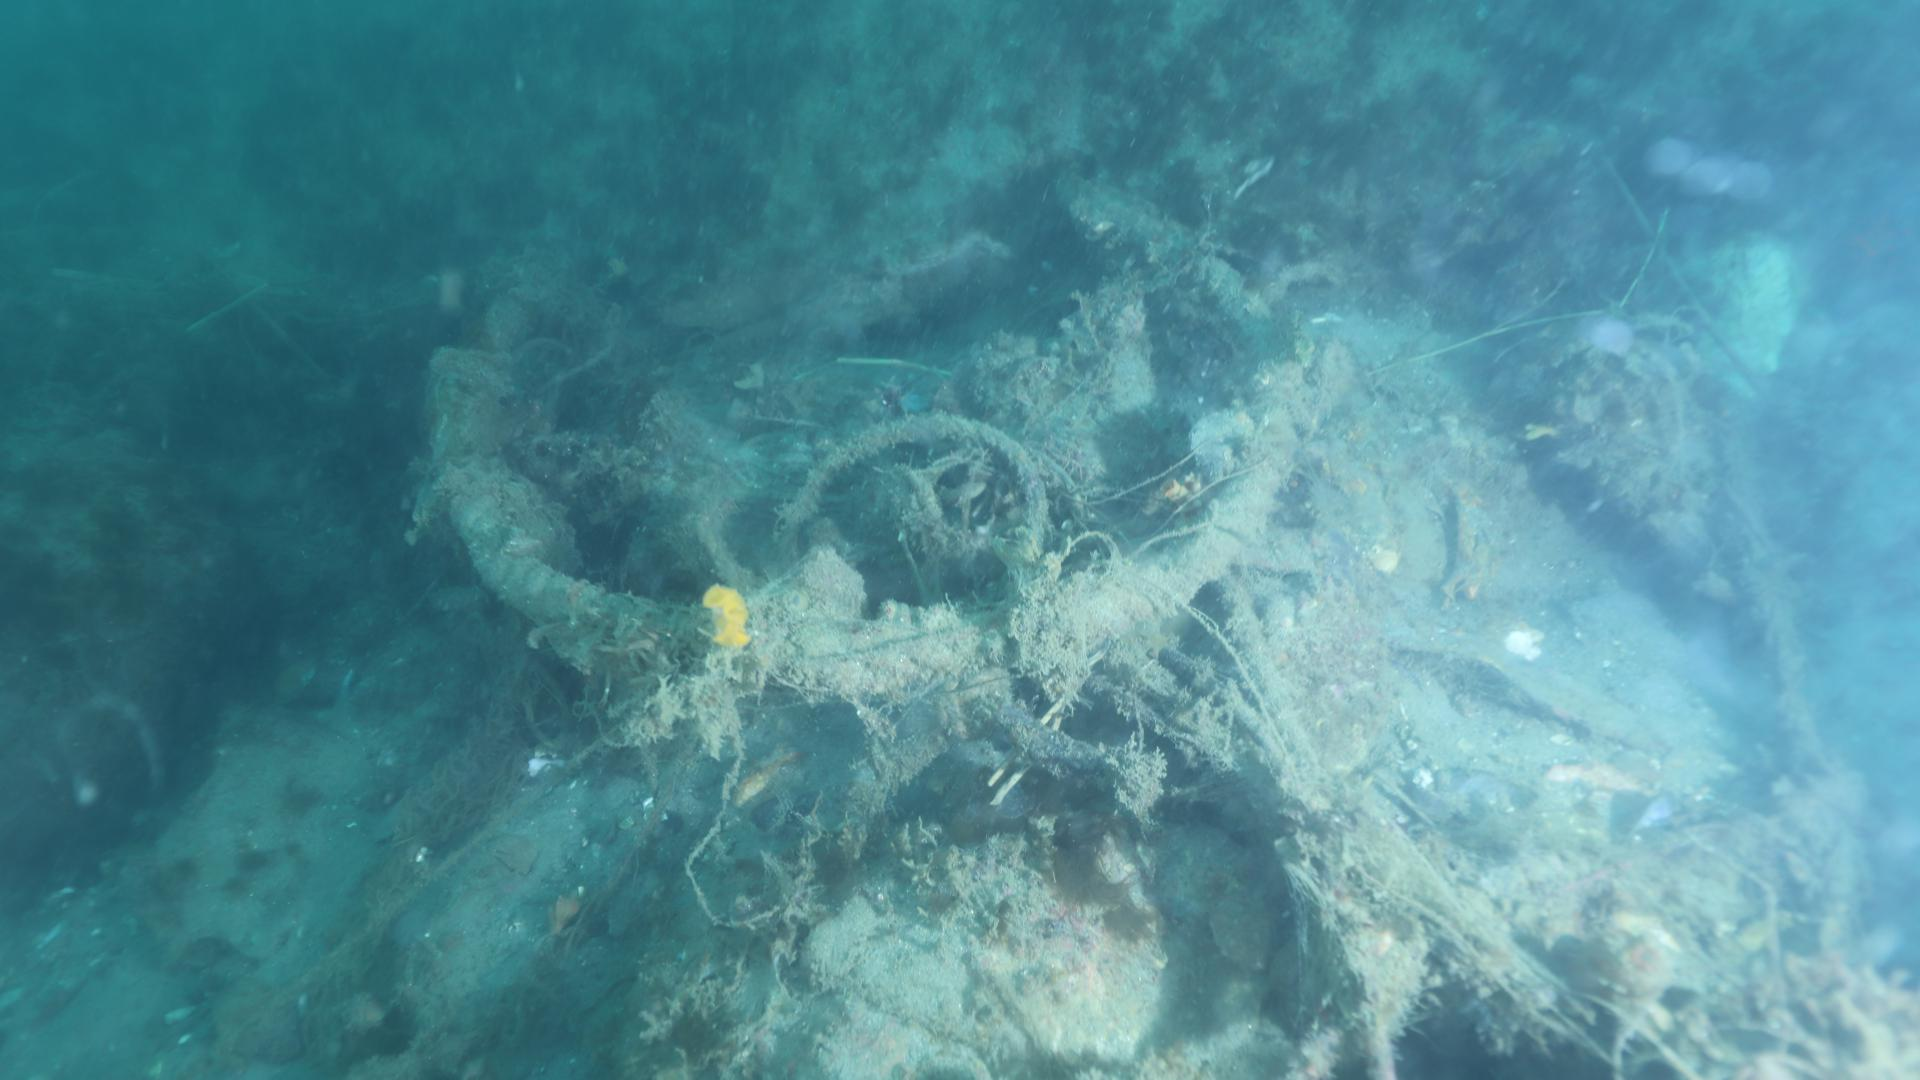rope: (444, 487, 607, 622)
